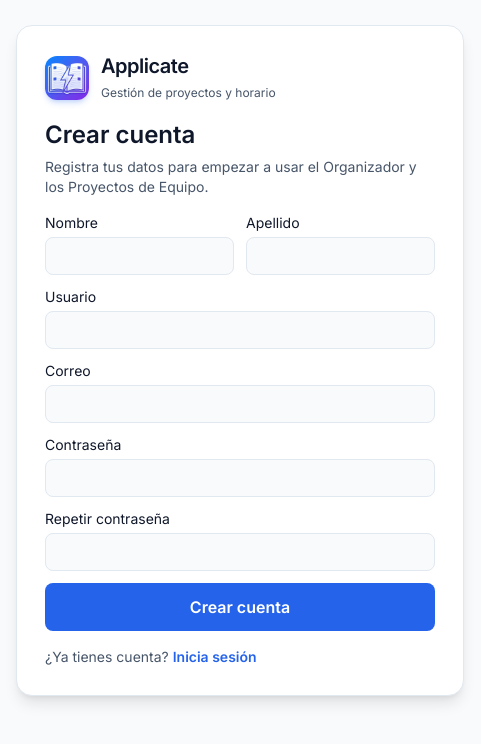
Test: RegisterPage › valida que las contraseñas coincidan antes de enviar
Type "Matías" into the field labelled "Nombre". click: (140, 256)
box: [45,236,234,274]
Type "González" into the field labelled "Apellido". click: (340, 256)
box: [246,236,435,274]
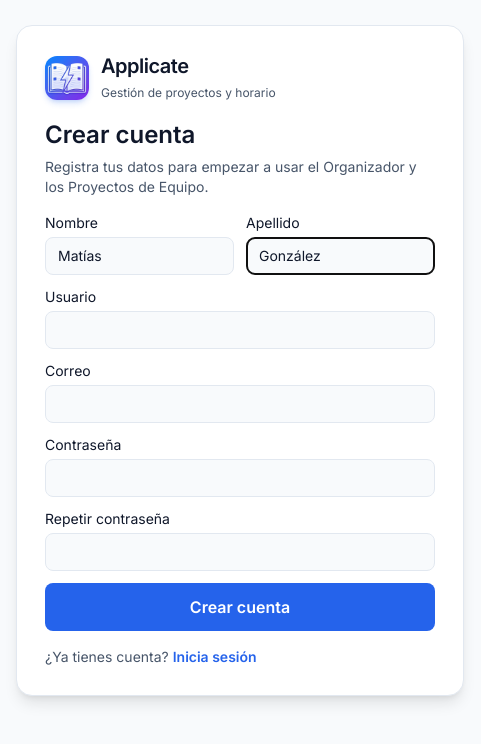
Type "mgonzalez" into the field labelled "Usuario". click: (240, 330)
box: [45,310,435,348]
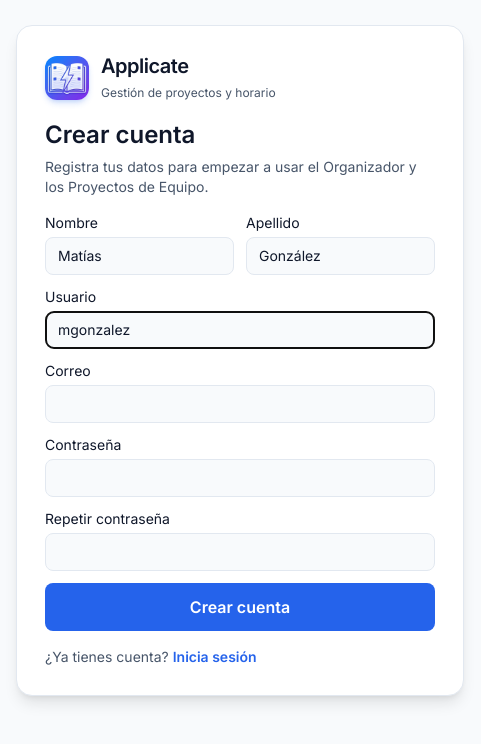
Type "mgonzalez@uc.cl" into the field labelled "Correo". click: (240, 404)
box: [45,384,435,422]
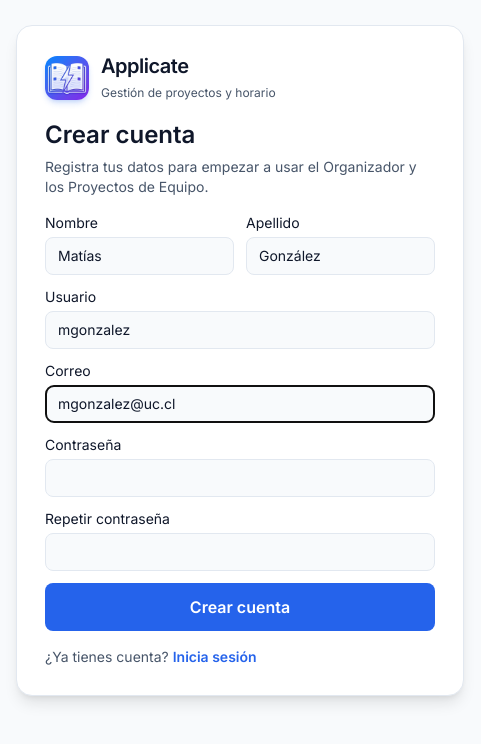
Type "ClaveSegura1" into the password field labelled "Contraseña". click: (240, 478)
box: [45,458,435,496]
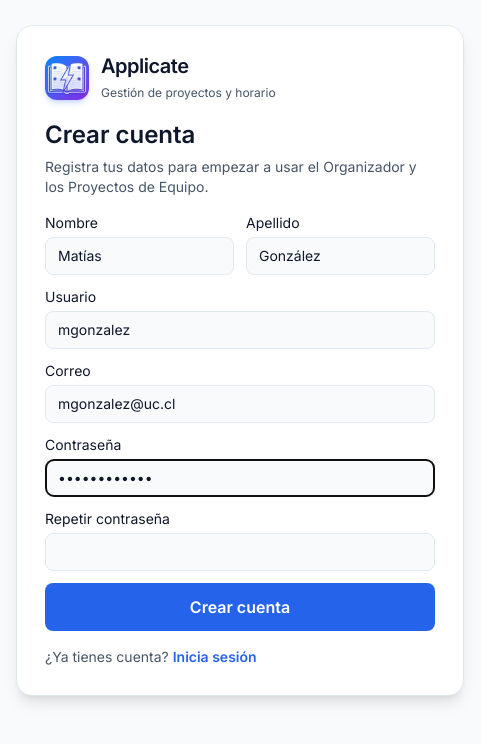
Type "OtraClave99" into the password field labelled "Repetir contraseña". click: (240, 552)
box: [45,532,435,570]
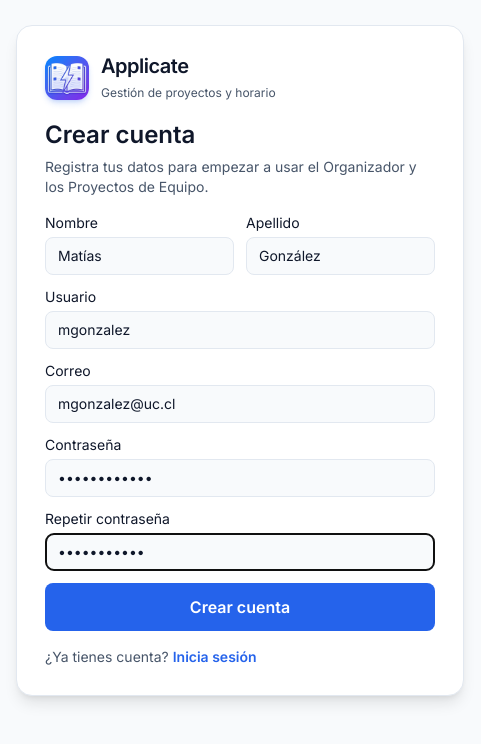
Click the button "Crear cuenta". click: (240, 606)
box: [45,582,435,630]
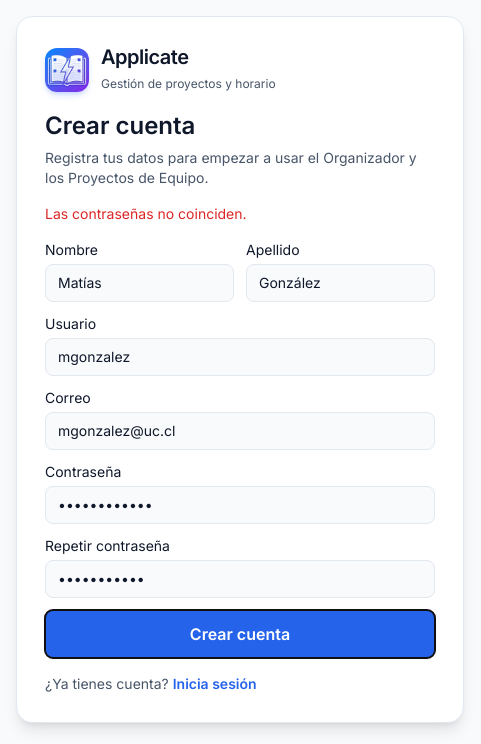
Check: the message reads "Las contraseñas no coinciden.", box [45,205,247,222]
